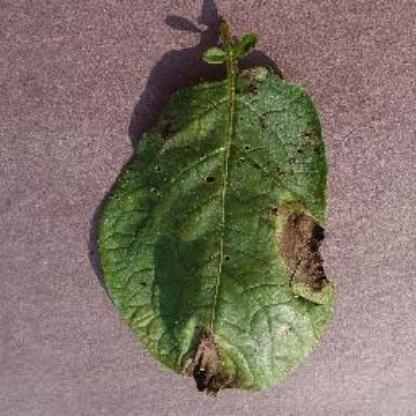Late-Blight: (87, 15, 346, 407)
